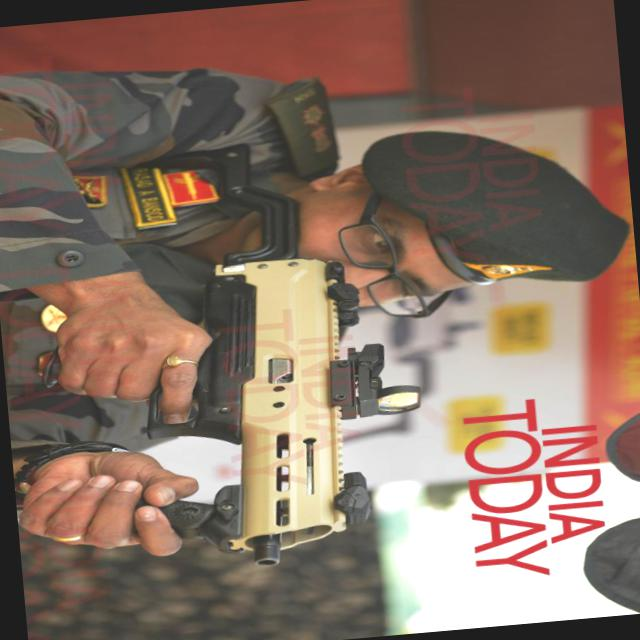long weapon: (117, 235, 427, 576)
